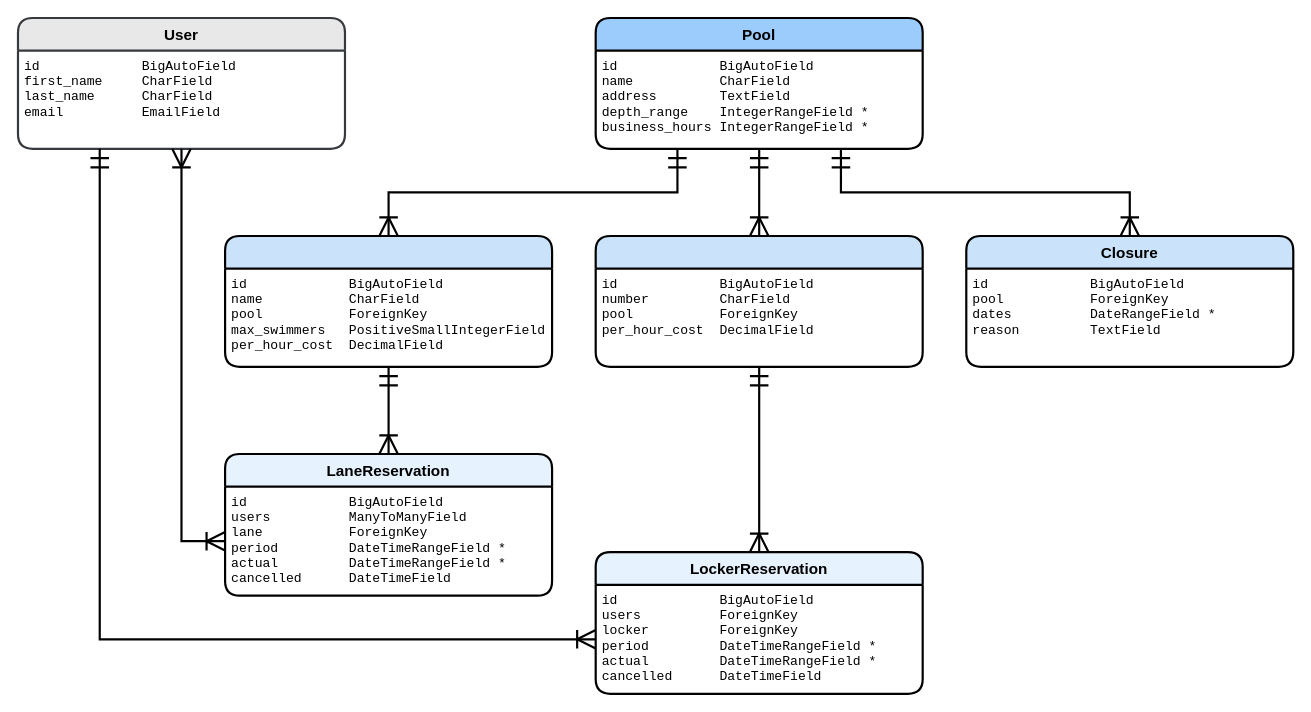
This 1311x712 diagram has some shape labels left out. Here are the shapes that lost their labels. From the top down, the box of each, then its label:
(223, 234, 553, 367): Lane
(594, 234, 923, 367): Locker
